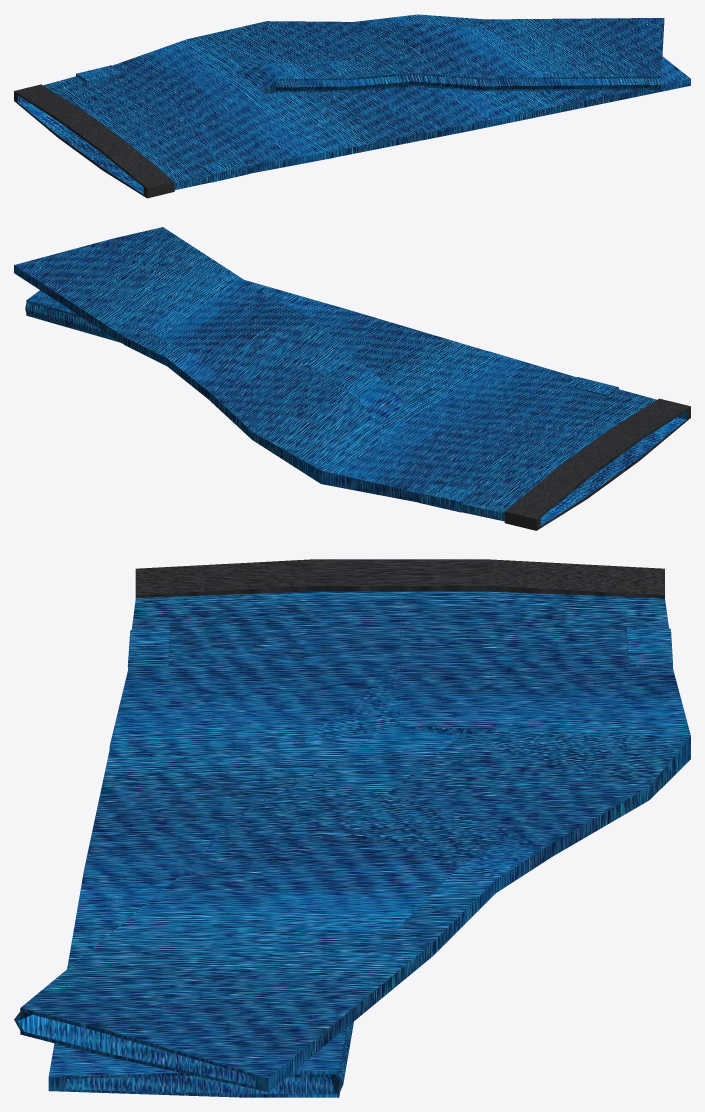
Rendered from pantalones2.fbx.
3 views of the same model, one above another, from view 1: azimuth 30°, elevation 25°; view 2: azimuth 150°, elevation 25°; view 3: azimuth 270°, elevation 25° (orthographic). The views are drawn at different scales.
Parts seen in each view (by area): view 1: pants2:Mesh; view 2: pants2:Mesh; view 3: pants2:Mesh.
Boxes of the visible parts, x1,y1,x2,y2 form: pants2:Mesh: (14,14,690,198); pants2:Mesh: (14,227,690,530); pants2:Mesh: (14,559,690,1097).
Bounding box in the file's own units: 4.77 × 0.3107 × 2.56.
2 materials, 2 textured.
